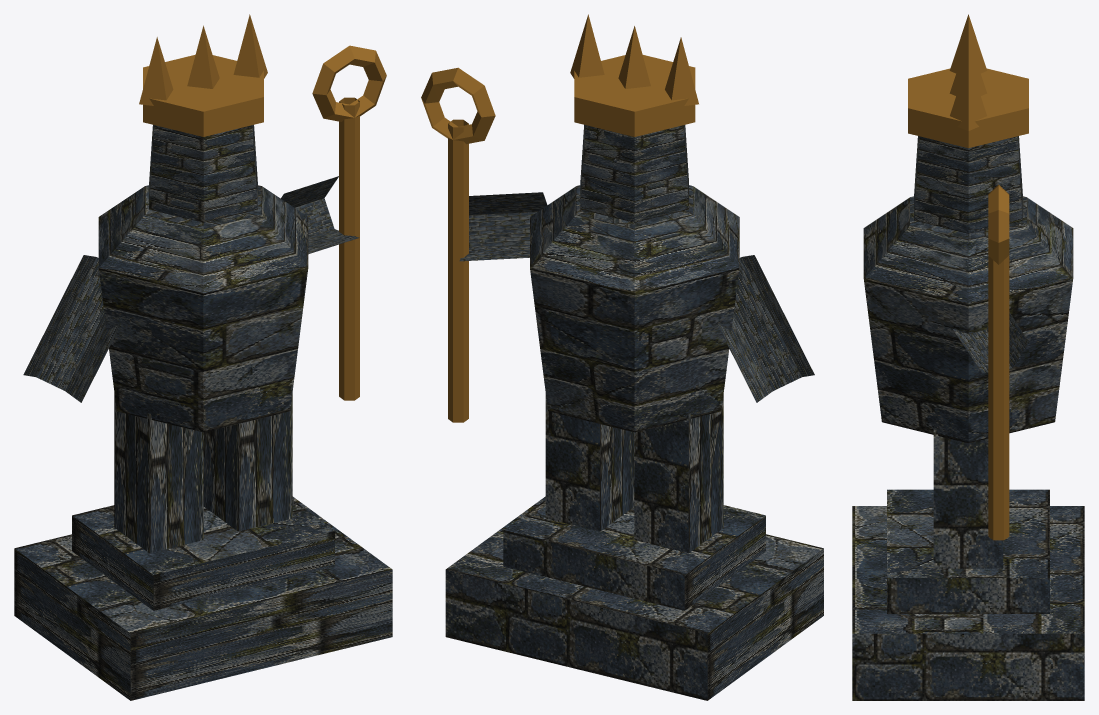
File: C08_Estatua_Executivo.obj
The picture shows the model from 3 angles, left to right: view 1: azimuth 30°, elevation 25°; view 2: azimuth 150°, elevation 25°; view 3: azimuth 270°, elevation 25°; orthographic projection.
Visible parts, largest first — view 1: C08_Estatua_Executivo; view 2: C08_Estatua_Executivo; view 3: C08_Estatua_Executivo.
Part boxes in pixels (bbox=[...]): C08_Estatua_Executivo: bbox=[14, 14, 392, 700]; C08_Estatua_Executivo: bbox=[421, 14, 823, 700]; C08_Estatua_Executivo: bbox=[852, 14, 1084, 700].
Size of the model in its own units: 1.84 by 2.85 by 1.
Materials: 2 (1 with a texture image).
